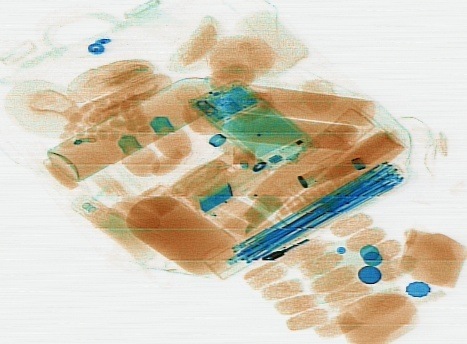pressure: (41, 61, 255, 187)
